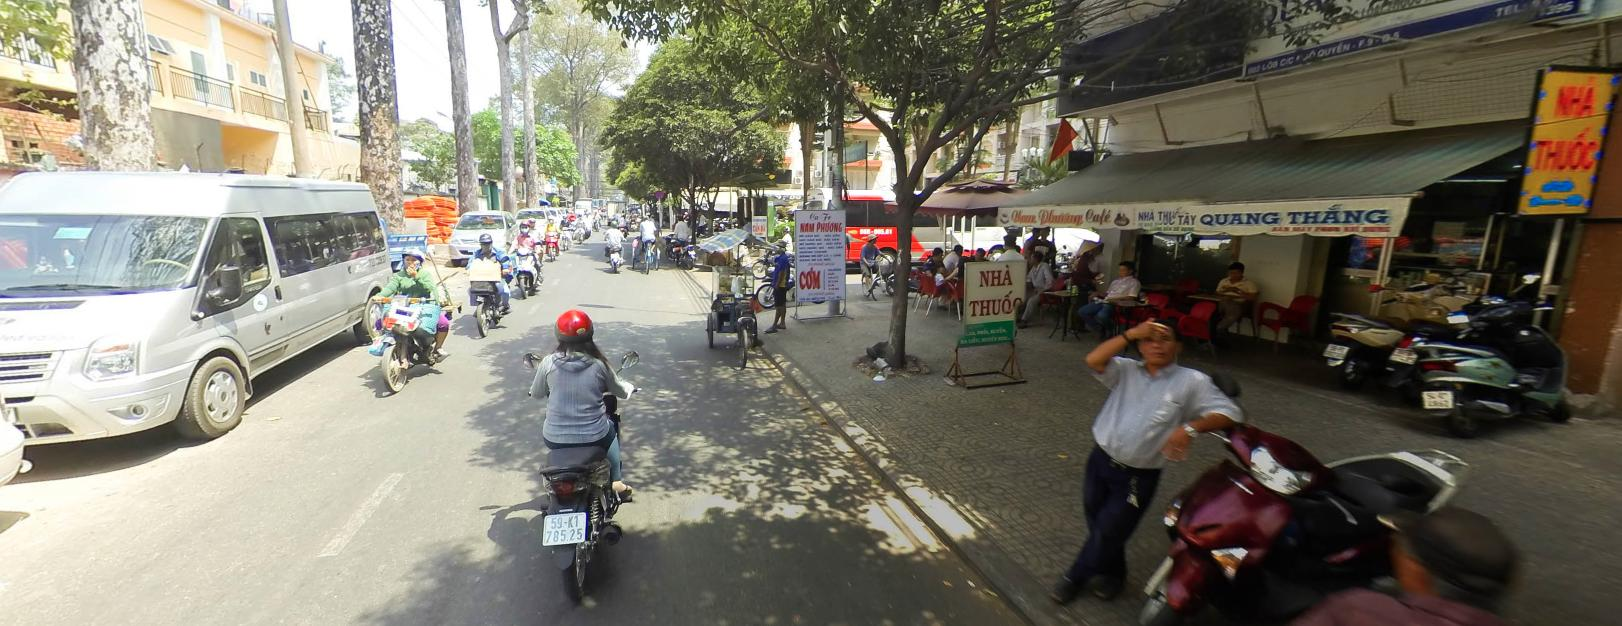Cam dung va do: (654, 189, 663, 197)
